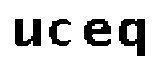c: (46, 16, 74, 50)
e: (78, 13, 114, 49)
q: (117, 17, 151, 60)
u: (10, 15, 43, 49)
